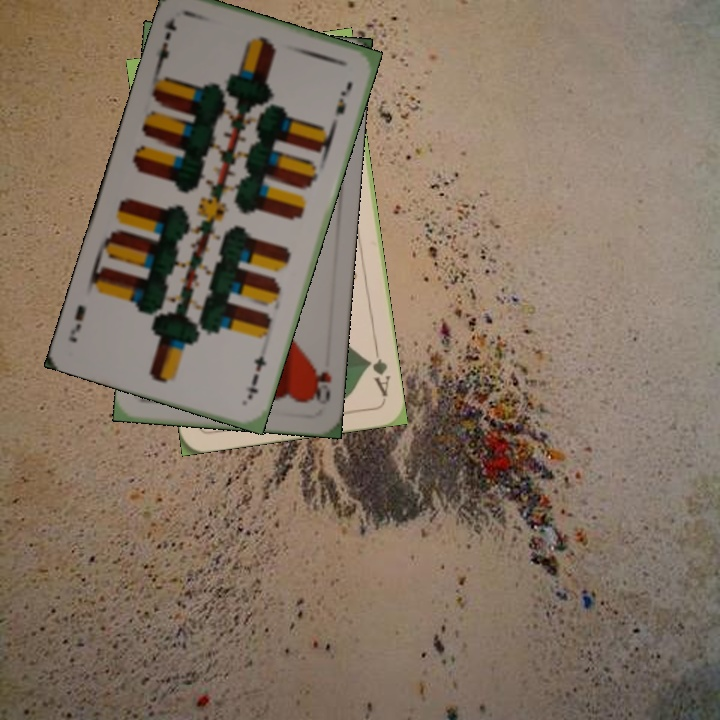E7: (152, 13, 179, 71), (241, 351, 270, 402)
GA: (363, 342, 393, 399)
HO: (308, 364, 334, 407)
